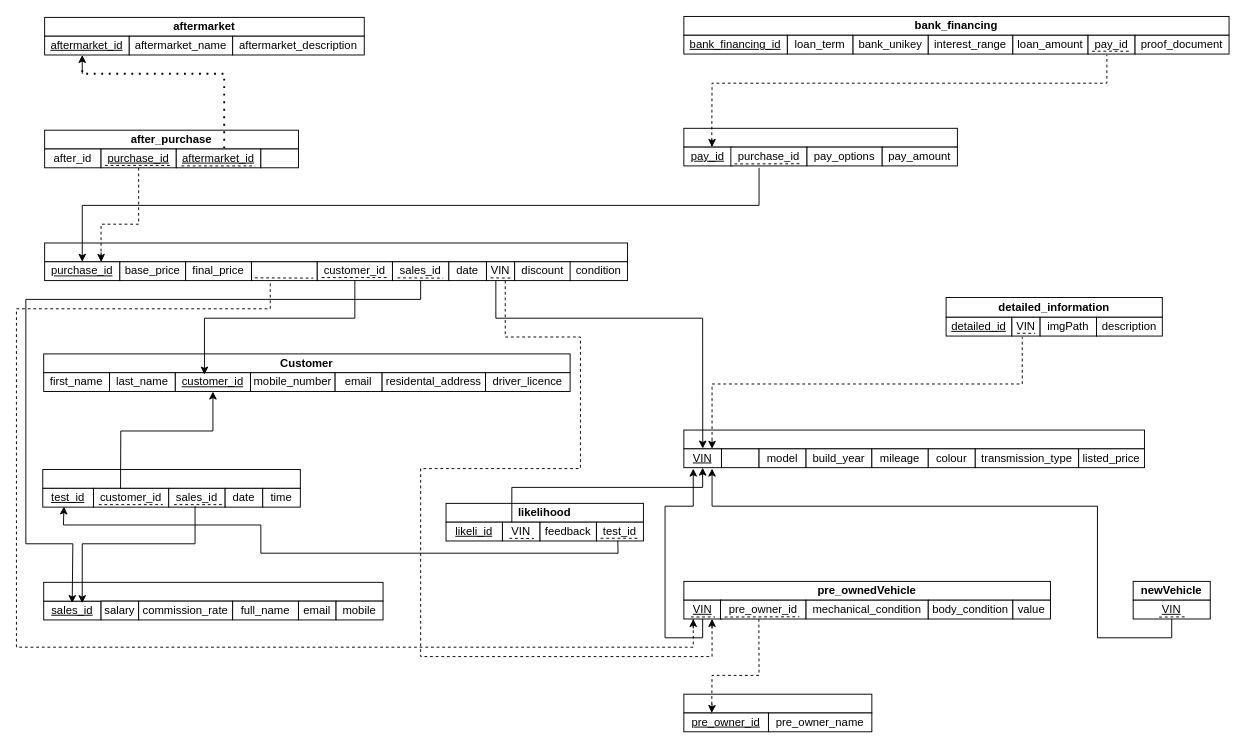
The diagram is 1246 pixels wide and 748 high, and some of its shapes have lost their labels. Here are the shapes that lost their labels. From the top down, the box of each, then its label:
(683, 127, 957, 147): payment
(260, 148, 298, 168): price
(251, 261, 317, 281): trade_in_id
(44, 242, 627, 262): purchasement
(721, 448, 759, 468): make
(683, 429, 1144, 449): vehicles
(42, 469, 300, 488): testDrive
(43, 581, 383, 601): salesperson
(683, 693, 872, 713): pre_owner
